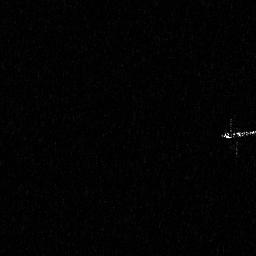ship: (219, 117, 256, 157)
